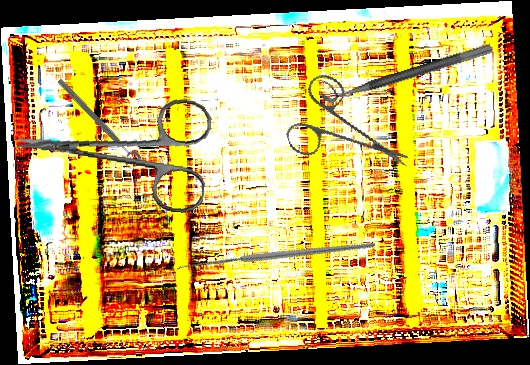Fixation Ring: (317, 28, 493, 106), (50, 76, 144, 172)
Hook Surgical: (173, 174, 376, 347)
Iris Scissors: (11, 82, 214, 215), (272, 56, 411, 200)
